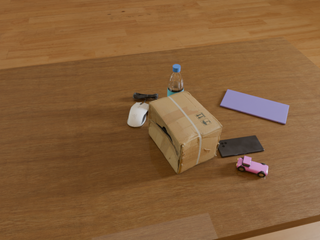book: (220, 90, 289, 124)
bottle: (168, 64, 184, 96)
box: (148, 91, 222, 174)
mouse: (128, 103, 149, 127)
phone: (218, 135, 264, 157)
toy_car: (236, 156, 268, 177)
